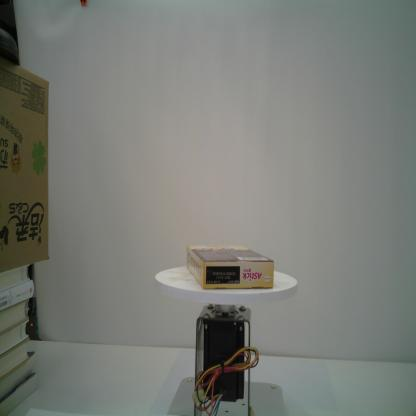Dessert: (186, 244, 274, 290)
